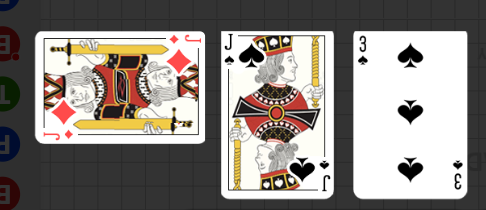3S: (357, 35, 370, 68)
JD: (42, 129, 77, 143)
JS: (222, 33, 266, 80), (289, 154, 333, 200)
